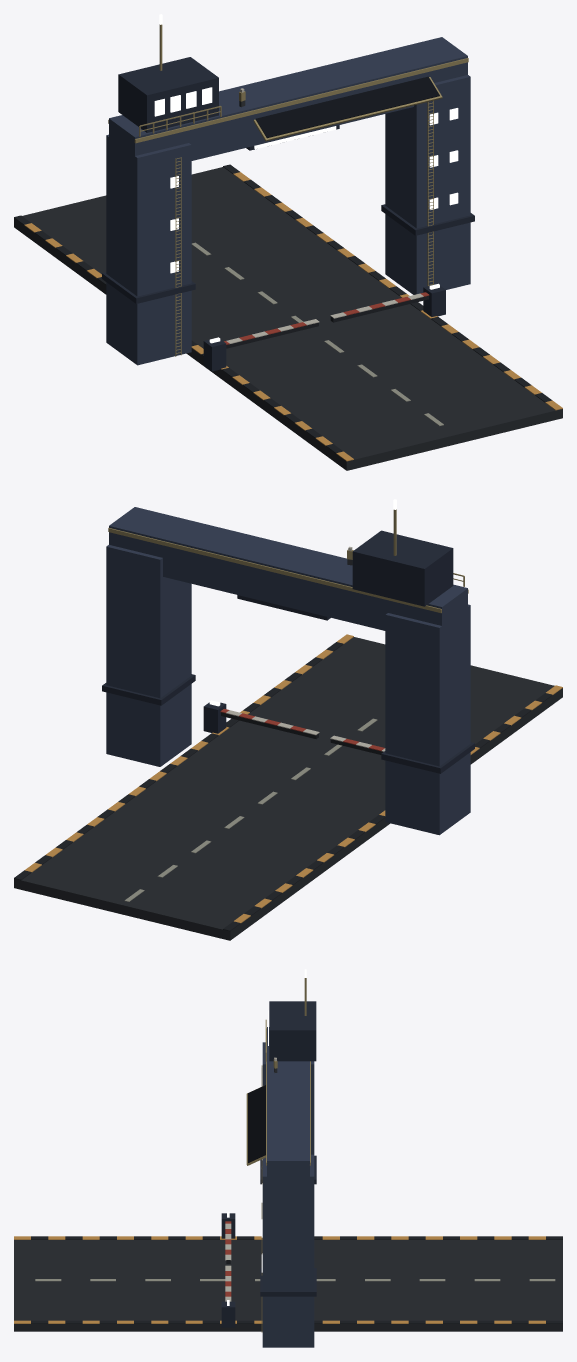
File: gl_gantry.glb
The picture shows the model from 3 angles, top to bottom: view 1: azimuth 30°, elevation 25°; view 2: azimuth 150°, elevation 25°; view 3: azimuth 270°, elevation 25°; orthographic projection. The views are drawn at different scales.
Visible parts, largest first — view 1: gl_gantry_body, gl_gantry_lit_emit, gl_gantry_arm_1_body, gl_gantry_arm_0_body; view 2: gl_gantry_body, gl_gantry_arm_1_body; view 3: gl_gantry_body.
Part boxes in pixels (x1,y1,x2,y2): gl_gantry_body: (14, 24, 562, 470); gl_gantry_lit_emit: (154, 14, 458, 343); gl_gantry_arm_1_body: (330, 292, 429, 322); gl_gantry_arm_0_body: (224, 319, 319, 348); gl_gantry_body: (14, 507, 562, 940); gl_gantry_arm_1_body: (220, 709, 319, 739); gl_gantry_body: (14, 978, 562, 1347).
Size of the model in its own units: 37.6 by 34.9 by 64.
